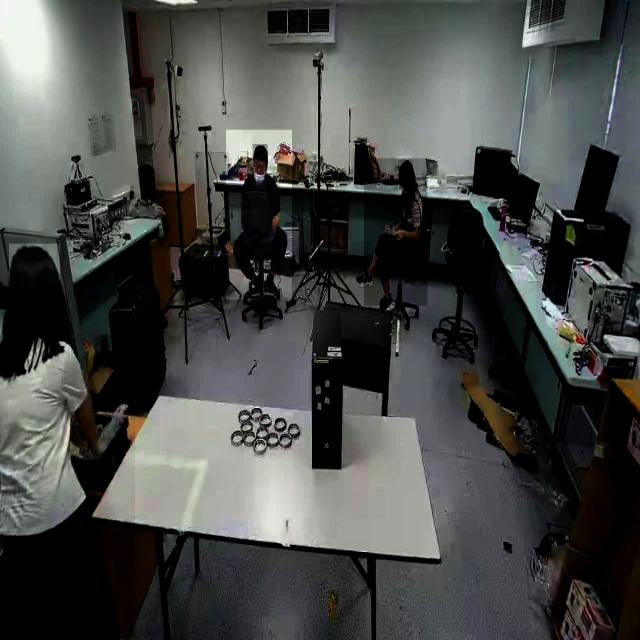face_mask: (398, 173, 412, 200), (252, 164, 266, 188)
hand_noglove: (393, 227, 406, 241)
head_nohelmet: (9, 243, 61, 289), (252, 144, 268, 159), (398, 160, 414, 172)
person: (0, 237, 136, 639), (226, 130, 292, 300), (364, 158, 428, 307)
shoes: (263, 272, 284, 304), (244, 272, 264, 302), (356, 268, 376, 292)
